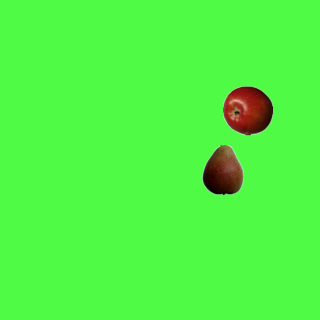Apple Braeburn: (222, 85, 272, 135)
Pear Forelle: (197, 144, 247, 194)
